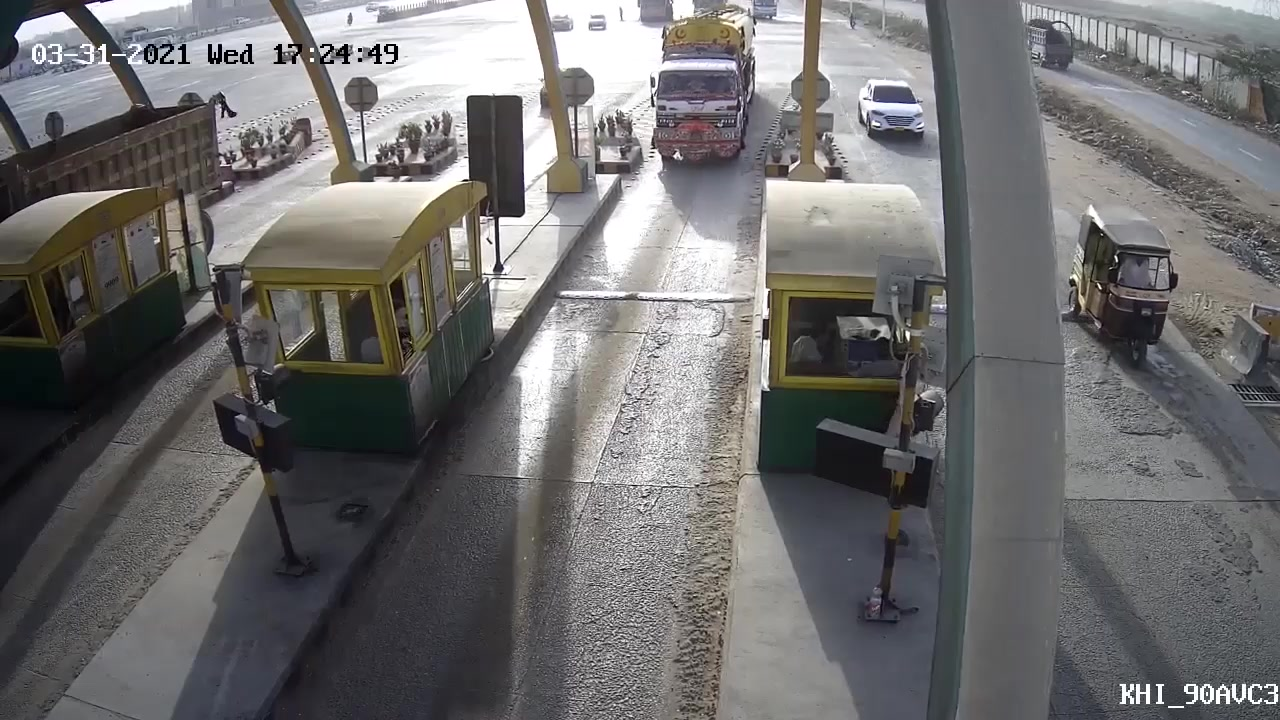F6: (633, 8, 766, 171)
